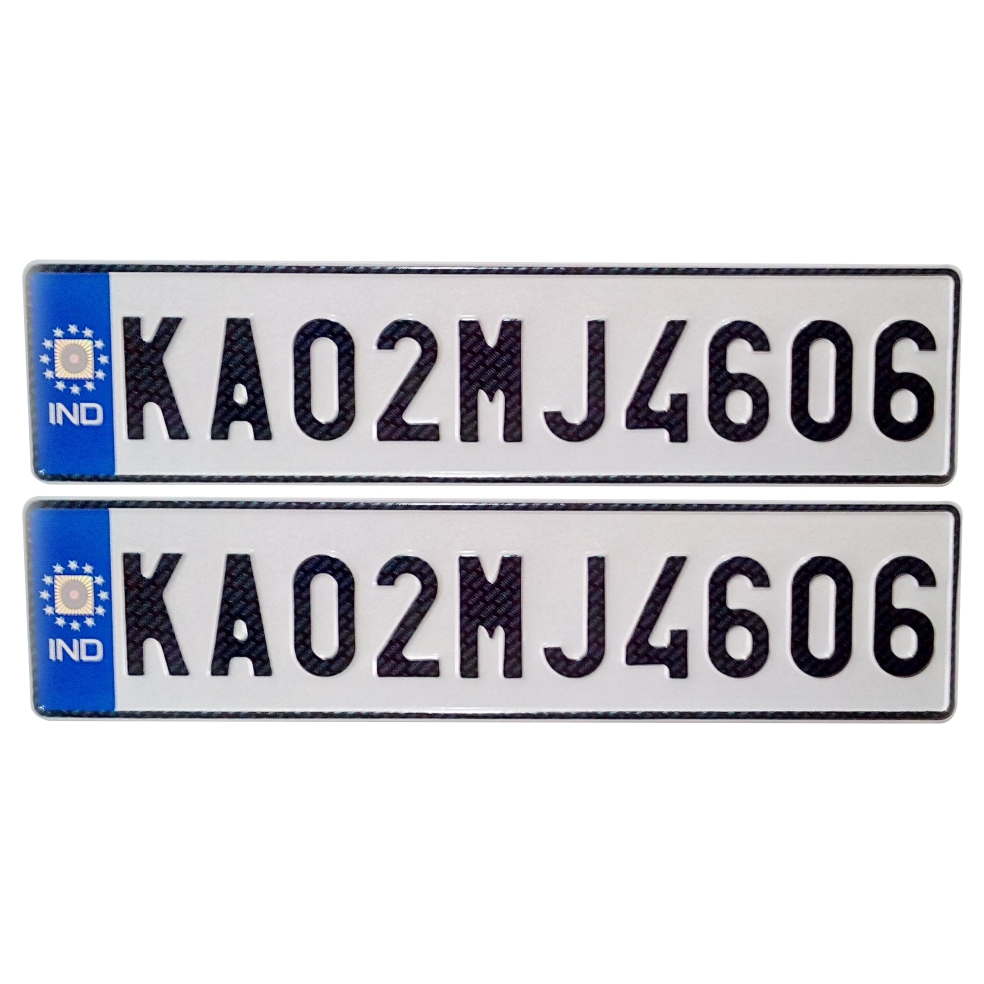number_plate: (23, 495, 960, 724), (24, 259, 958, 484)
